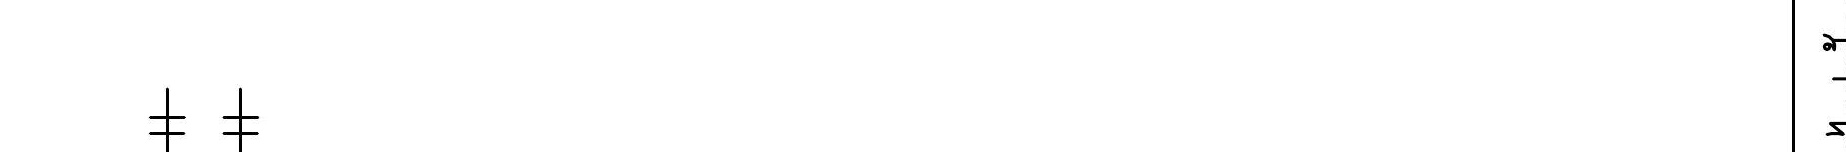115_buffer: (148, 115, 186, 136), (223, 115, 259, 136)
